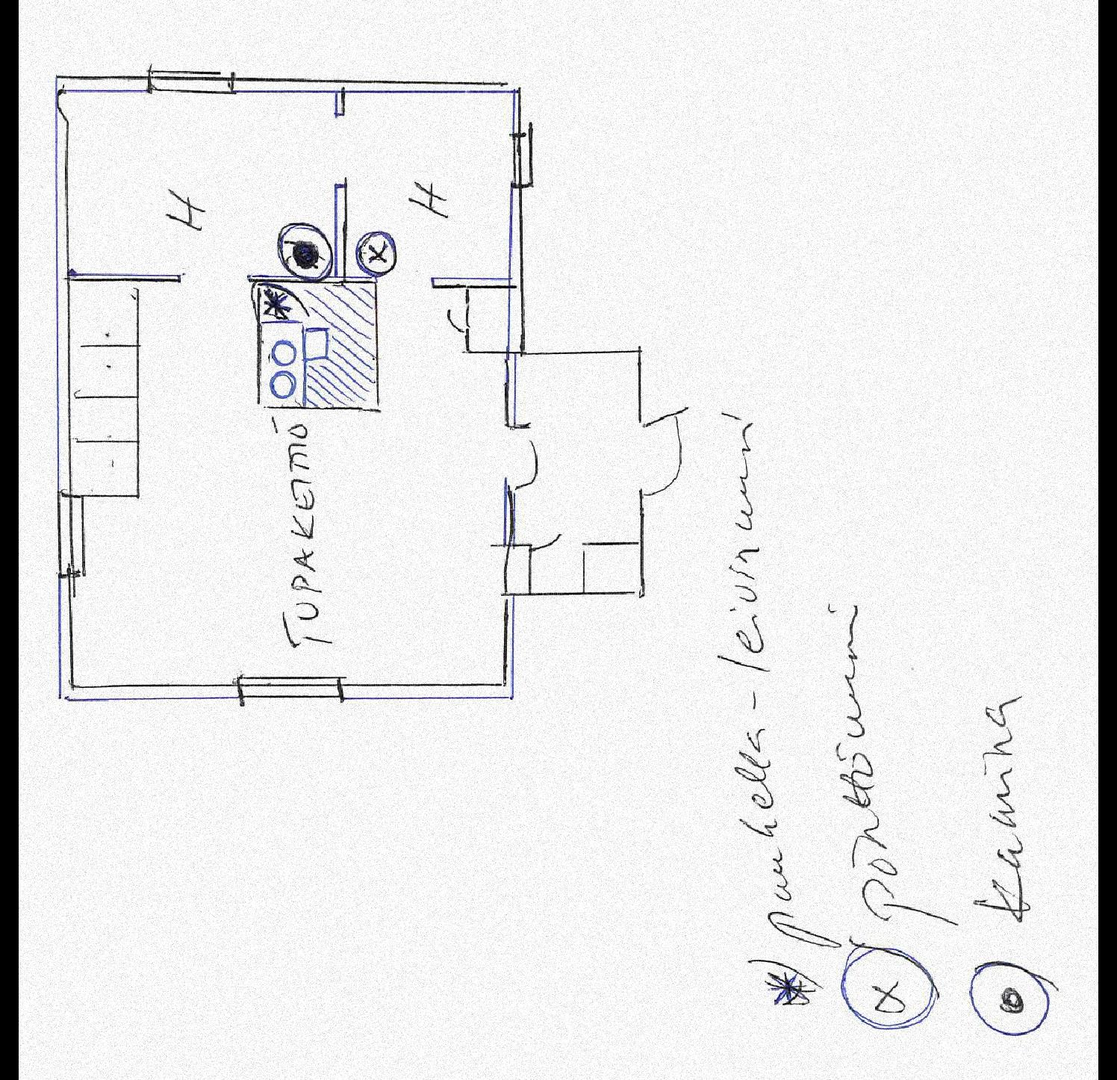door: (637, 397, 692, 500), (504, 408, 541, 500), (450, 302, 480, 329)
window: (234, 672, 346, 704), (52, 494, 84, 579), (146, 70, 235, 96), (506, 128, 538, 188)
zone: (69, 284, 508, 689), (69, 96, 332, 273), (506, 354, 643, 598), (346, 90, 508, 283)
